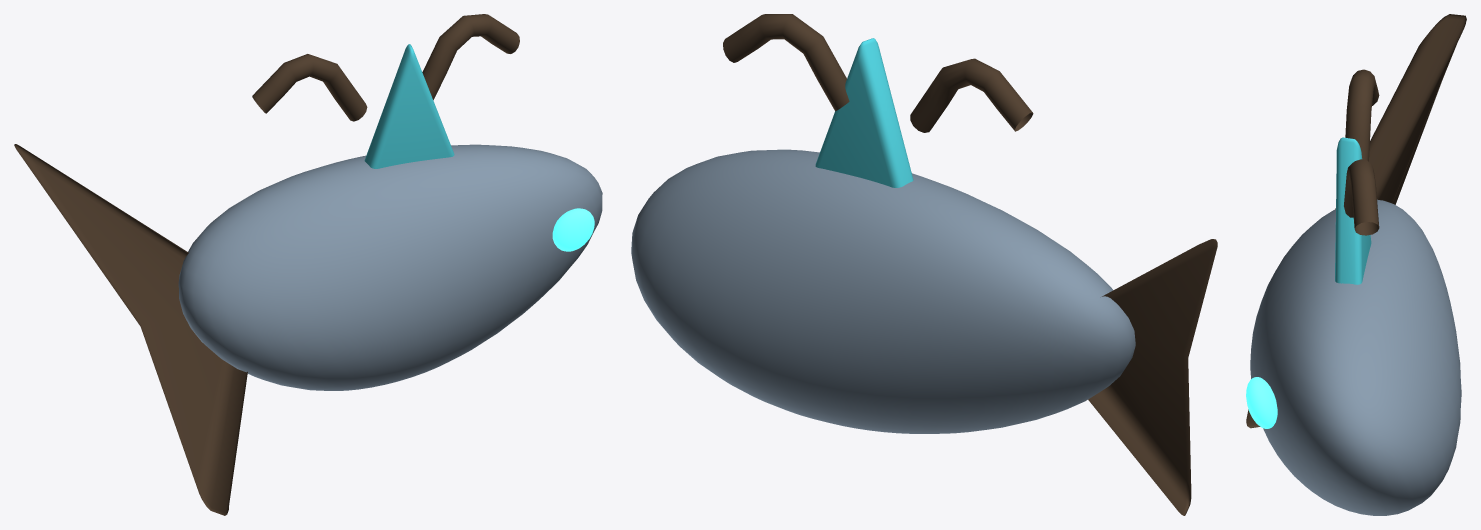
The model's file is aquatic_v8.glb.
3 renders of one model, left to right at view 1: azimuth 30°, elevation 25°; view 2: azimuth 150°, elevation 25°; view 3: azimuth 270°, elevation 25°, orthographic. The views are drawn at different scales.
Visible parts, largest first — view 1: SHARK_BODY_PRIMARY, SHARK_TAIL_SECONDARY, SHARK_DORSAL_ACCENT, SWEEP_ANTLER_SECONDARY, SWEEP_ANTLER_SECONDARY.001, EYE_EMISSIVE; view 2: SHARK_BODY_PRIMARY, SHARK_TAIL_SECONDARY, SHARK_DORSAL_ACCENT, SWEEP_ANTLER_SECONDARY.001, SWEEP_ANTLER_SECONDARY; view 3: SHARK_BODY_PRIMARY, SHARK_TAIL_SECONDARY, SHARK_DORSAL_ACCENT, SWEEP_ANTLER_SECONDARY.001, SWEEP_ANTLER_SECONDARY, EYE_EMISSIVE.
Boxes of the visible parts, bbox=[...] form: SHARK_BODY_PRIMARY: bbox=[178, 144, 602, 390]; SHARK_TAIL_SECONDARY: bbox=[14, 144, 247, 515]; SHARK_DORSAL_ACCENT: bbox=[364, 44, 454, 168]; SWEEP_ANTLER_SECONDARY: bbox=[252, 54, 367, 121]; SWEEP_ANTLER_SECONDARY.001: bbox=[422, 14, 519, 99]; EYE_EMISSIVE: bbox=[552, 208, 594, 251]; SHARK_BODY_PRIMARY: bbox=[631, 149, 1135, 433]; SHARK_TAIL_SECONDARY: bbox=[1088, 239, 1217, 515]; SHARK_DORSAL_ACCENT: bbox=[815, 38, 913, 187]; SWEEP_ANTLER_SECONDARY.001: bbox=[723, 14, 849, 111]; SWEEP_ANTLER_SECONDARY: bbox=[910, 58, 1033, 132]; SHARK_BODY_PRIMARY: bbox=[1250, 199, 1461, 515]; SHARK_TAIL_SECONDARY: bbox=[1246, 14, 1466, 428]; SHARK_DORSAL_ACCENT: bbox=[1335, 137, 1371, 284]; SWEEP_ANTLER_SECONDARY.001: bbox=[1344, 159, 1379, 235]; SWEEP_ANTLER_SECONDARY: bbox=[1345, 69, 1379, 161]; EYE_EMISSIVE: bbox=[1246, 377, 1277, 428].
Size of the model in its own units: 2.45 by 1.7 by 0.8015.
